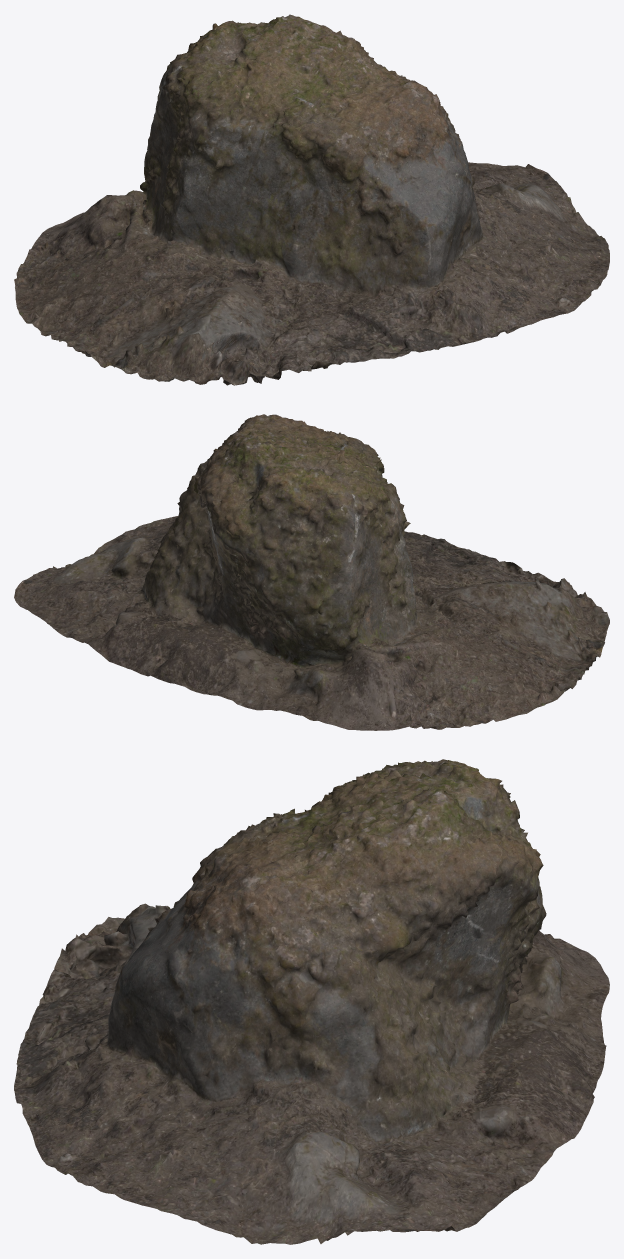
Rendered from rockrrr.glb.
The picture shows the model from 3 angles, top to bottom: view 1: azimuth 30°, elevation 25°; view 2: azimuth 150°, elevation 25°; view 3: azimuth 270°, elevation 25°; orthographic projection. The views are drawn at different scales.
Visible parts, largest first — view 1: Mossy Rock; view 2: Mossy Rock; view 3: Mossy Rock.
Boxes of the visible parts, box(x1,y1,x2,y2) form: Mossy Rock: box(14, 14, 609, 385); Mossy Rock: box(14, 414, 609, 730); Mossy Rock: box(14, 759, 609, 1244).
Size of the model in its own units: 4.38 by 1.76 by 3.2.
Materials: 1 (1 with a texture image).
